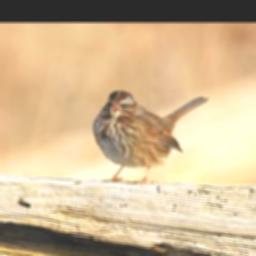Sparrow: (93, 88, 212, 183)
